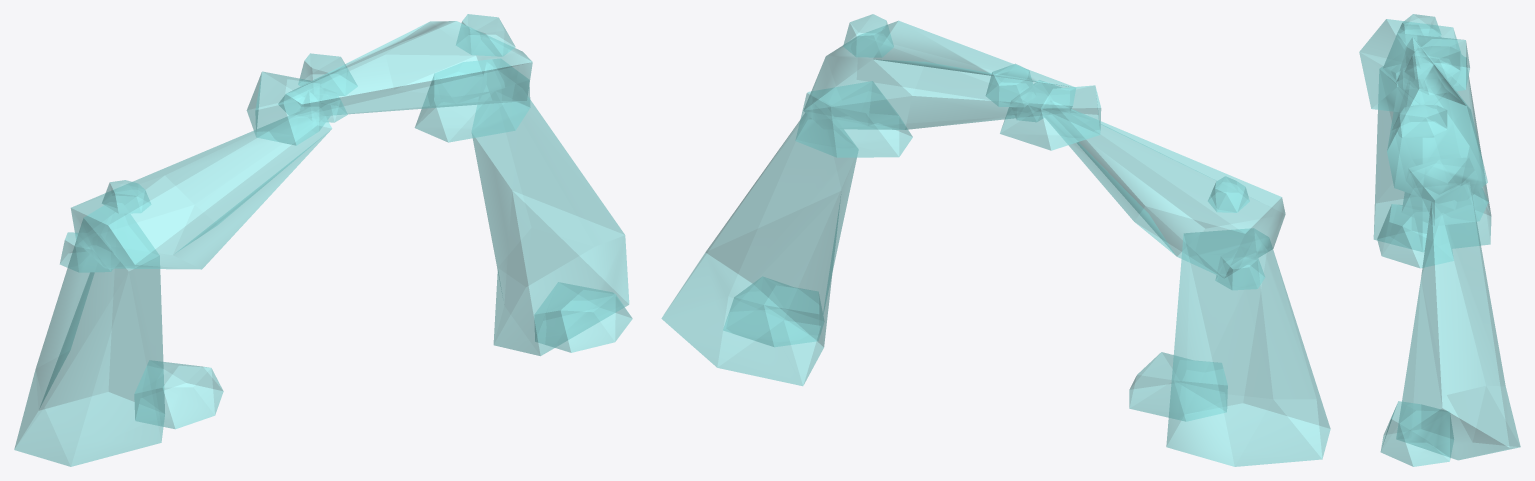
Rendered from Rock_Archway_Ice_01.fbx.
3 renders of one model, left to right at view 1: azimuth 30°, elevation 25°; view 2: azimuth 150°, elevation 25°; view 3: azimuth 270°, elevation 25°, orthographic. The views are drawn at different scales.
Visible parts, largest first — view 1: Rock_Archway_Ice_01; view 2: Rock_Archway_Ice_01; view 3: Rock_Archway_Ice_01.
Boxes of the visible parts, x1,y1,x2,y2 form: Rock_Archway_Ice_01: (14,14,632,466); Rock_Archway_Ice_01: (661,14,1330,466); Rock_Archway_Ice_01: (1359,14,1520,466).
Bounding box in the file's own units: 310 × 172 × 77.6.
